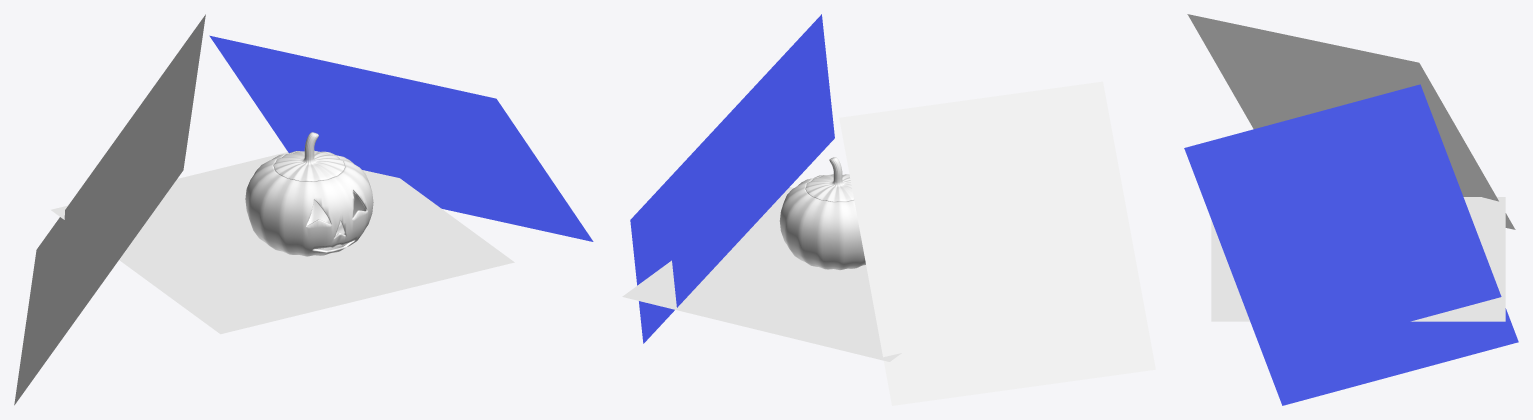
The model's file is single_pumpkin.glb.
3 views of the same model, side by side, from view 1: azimuth 30°, elevation 25°; view 2: azimuth 150°, elevation 25°; view 3: azimuth 270°, elevation 25° (orthographic). The views are drawn at different scales.
Parts seen in each view (by area): view 1: Plane, Plane.001, Plane.002, Sphere.001, Sphere; view 2: Plane.002, Plane.001, Plane, Sphere.001, Sphere; view 3: Plane.001, Plane.002, Plane.
Part boxes in pixels (x1=…): Plane: x1=51, y1=152, x2=514, y2=334; Plane.001: x1=209, y1=35, x2=593, y2=241; Plane.002: x1=14, y1=14, x2=205, y2=405; Sphere.001: x1=245, y1=150, x2=373, y2=256; Sphere: x1=273, y1=132, x2=345, y2=181; Plane.002: x1=839, y1=81, x2=1155, y2=405; Plane.001: x1=630, y1=14, x2=834, y2=343; Plane: x1=622, y1=187, x2=901, y2=361; Sphere.001: x1=779, y1=174, x2=865, y2=270; Sphere: x1=805, y1=157, x2=853, y2=201; Plane.001: x1=1184, y1=84, x2=1518, y2=405; Plane.002: x1=1187, y1=14, x2=1515, y2=229; Plane: x1=1211, y1=197, x2=1505, y2=321.
Size of the model in its own units: 30.23 by 13.4 by 17.48.
